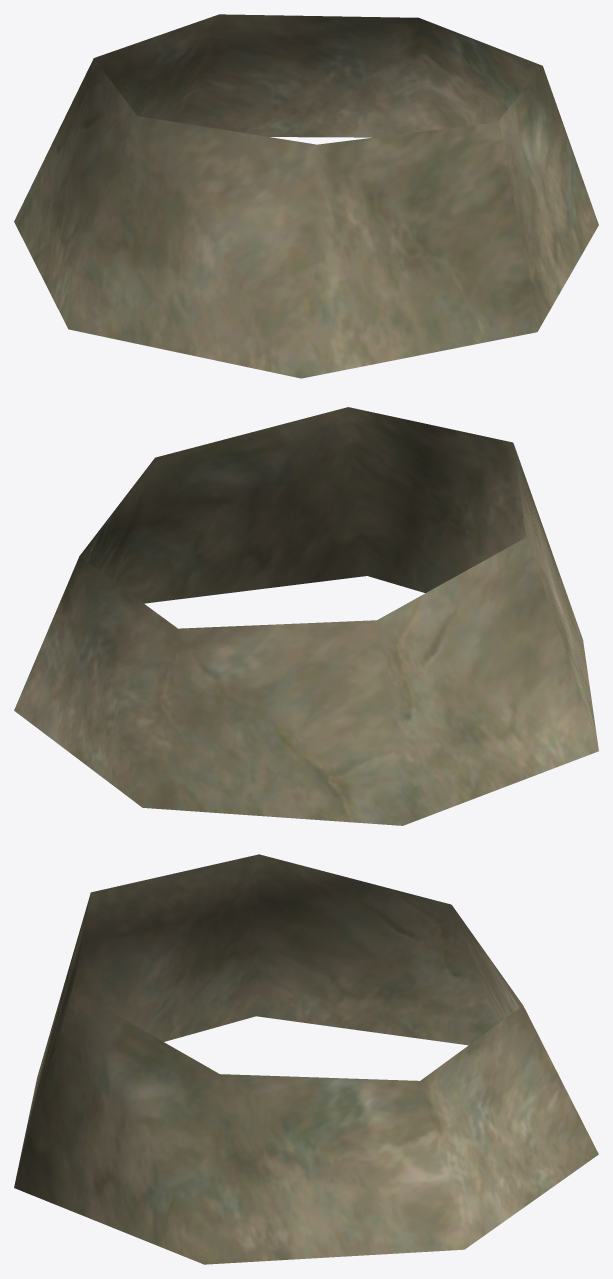
File: EKH_JAIL_PS_JA_PILLAR_BASE293488.fbx
3 views of the same model, one above another, from view 1: azimuth 30°, elevation 25°; view 2: azimuth 150°, elevation 25°; view 3: azimuth 270°, elevation 25° (orthographic).
Parts seen in each view (by area): view 1: EKH_JAIL_PS_JA_PILLAR_BASE293488; view 2: EKH_JAIL_PS_JA_PILLAR_BASE293488; view 3: EKH_JAIL_PS_JA_PILLAR_BASE293488.
Part boxes in pixels (x1,y1,x2,y2): EKH_JAIL_PS_JA_PILLAR_BASE293488: (14,14,598,378); EKH_JAIL_PS_JA_PILLAR_BASE293488: (14,407,598,825); EKH_JAIL_PS_JA_PILLAR_BASE293488: (14,854,598,1264).
Bounding box in the file's own units: 17807 × 6882 × 17726.
Materials: 1 (1 with a texture image).
